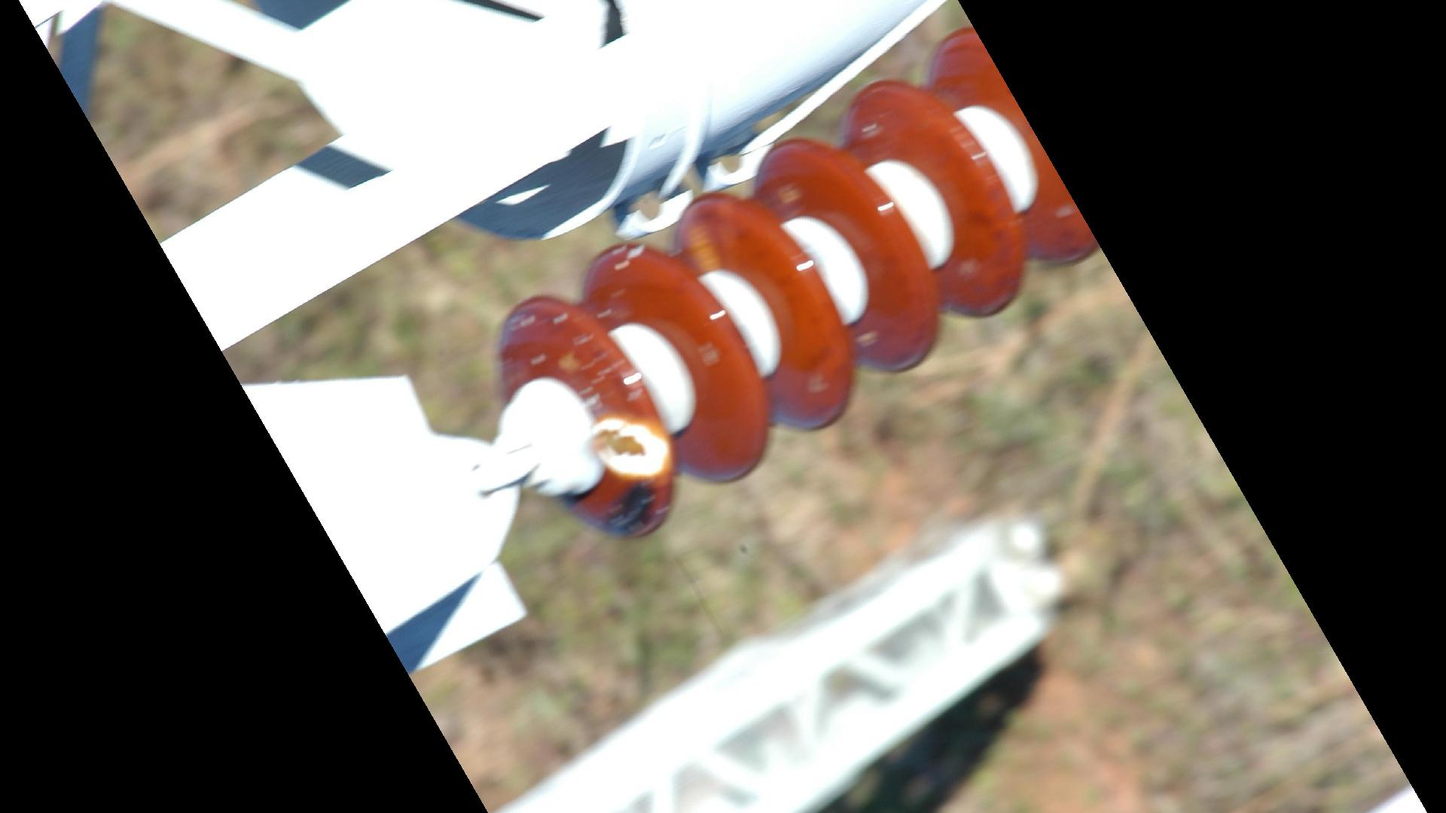insulator: (484, 23, 1103, 546)
insulator_flashover: (586, 413, 674, 485)
